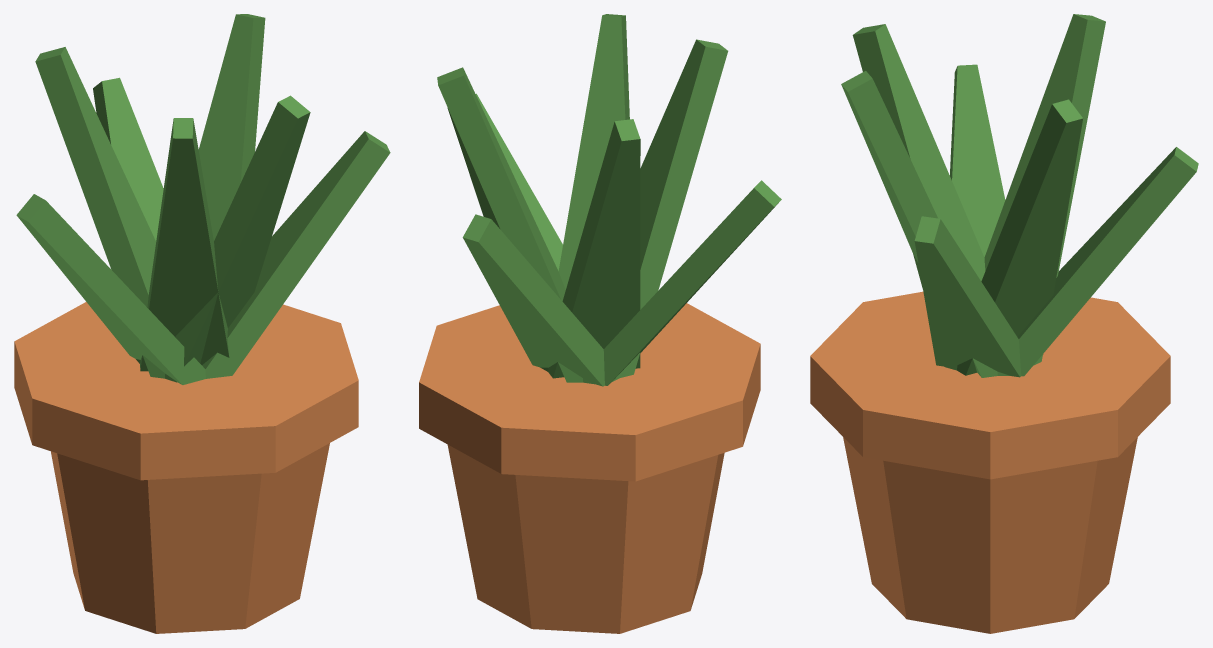
Rendered from plant.glb.
3 views of the same model, side by side, from view 1: azimuth 30°, elevation 25°; view 2: azimuth 150°, elevation 25°; view 3: azimuth 270°, elevation 25° (orthographic).
Parts seen in each view (by area): view 1: Pot, Leaves; view 2: Pot, Leaves; view 3: Pot, Leaves.
Boxes of the visible parts, x1,y1,x2,y2 form: Pot: (14,302,358,633); Leaves: (16,14,390,384); Pot: (419,303,760,633); Leaves: (437,14,781,386); Pot: (810,291,1170,633); Leaves: (841,14,1198,377).
Bounding box in the file's own units: 1.72 × 2.46 × 1.64.
